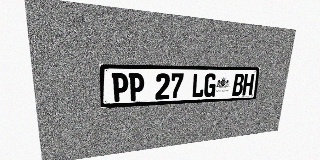2: (155, 73, 170, 100)
7: (169, 73, 184, 99)
B: (232, 73, 245, 96)
G: (203, 73, 217, 97)
H: (242, 74, 255, 96)
L: (191, 73, 205, 98)
P: (112, 73, 128, 102), (129, 73, 144, 101)
